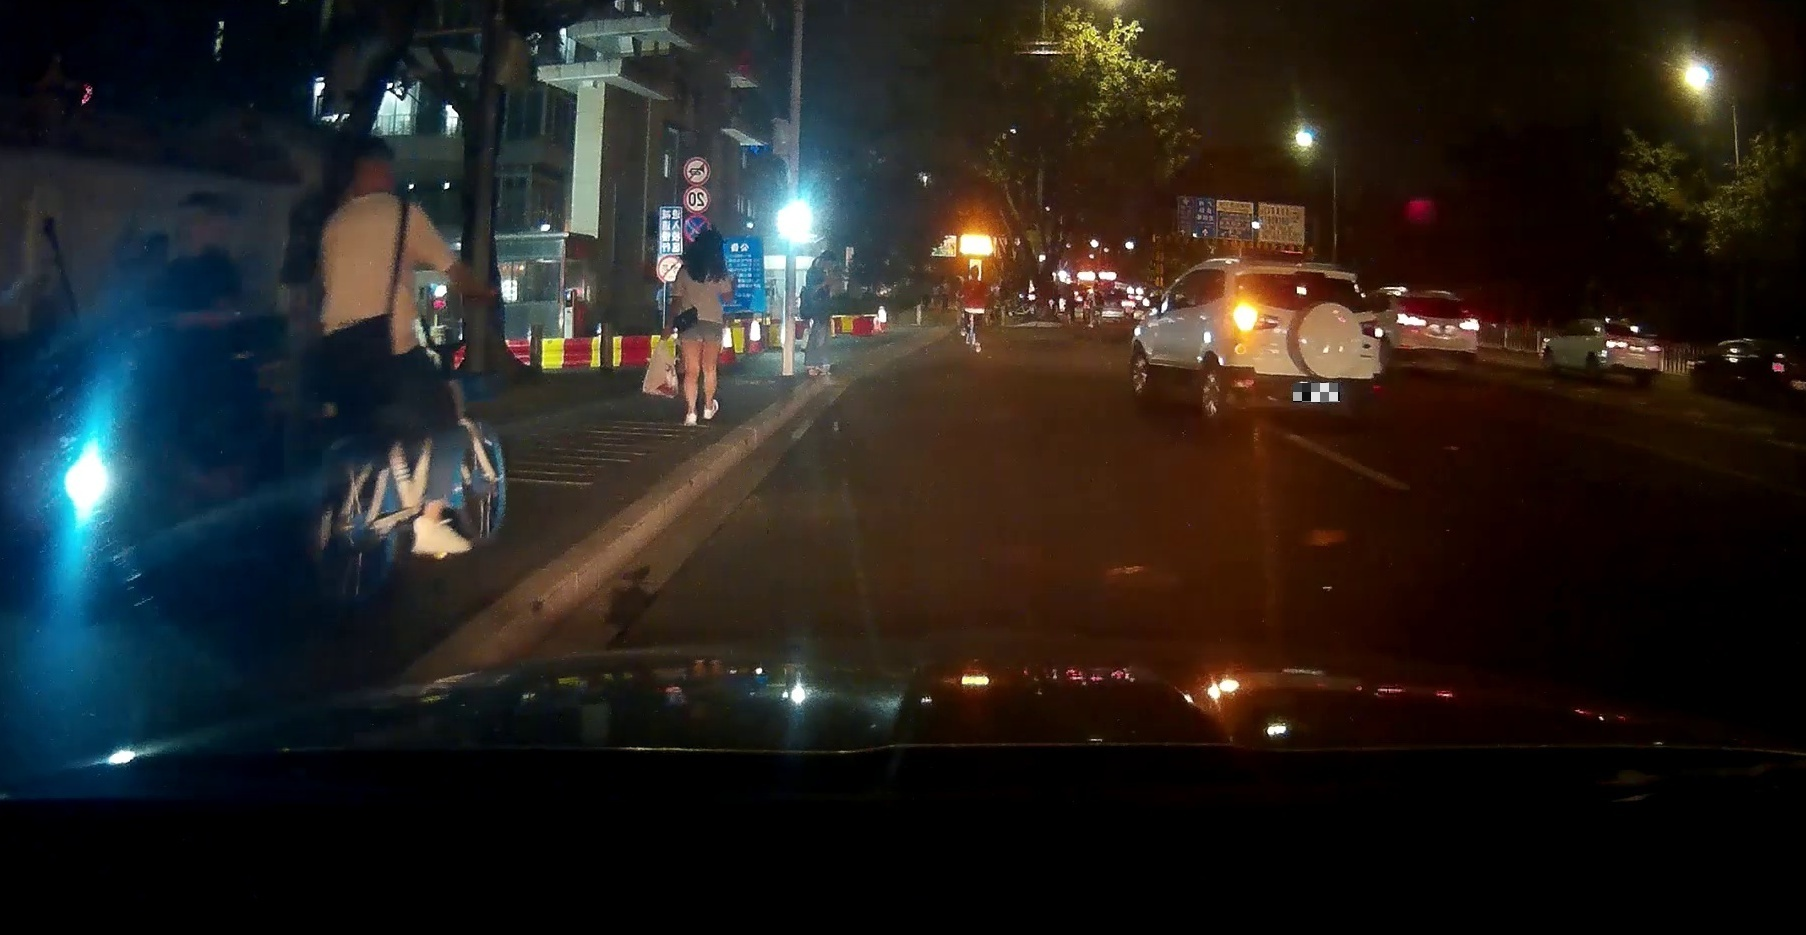L_light: (1234, 308, 1280, 332), (1396, 314, 1426, 327)
R_light: (1359, 317, 1383, 340), (1459, 320, 1479, 332)
T_light: (1295, 270, 1326, 278), (1428, 296, 1442, 301)
night-left: (1227, 260, 1383, 427)
night-no: (1394, 287, 1481, 374)
plate_1: (1293, 383, 1340, 402)
